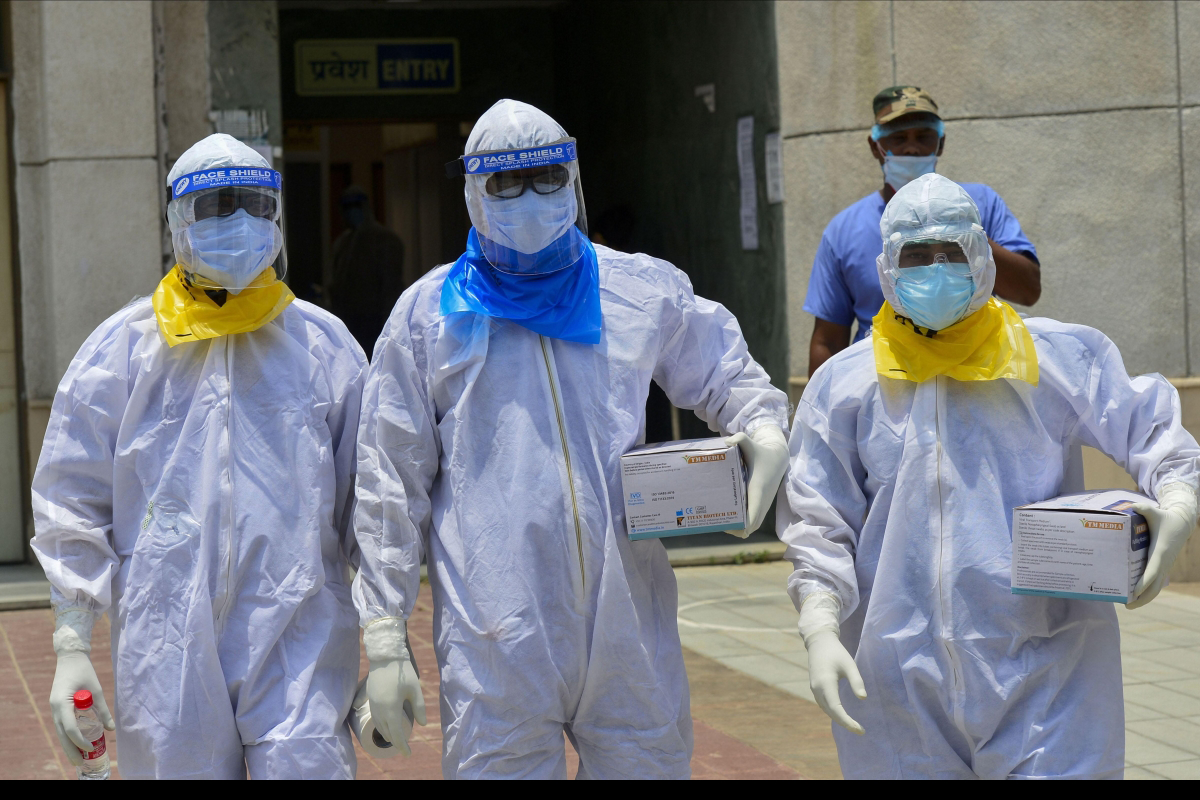Coverall: (362, 104, 773, 796), (790, 187, 1200, 800), (37, 134, 375, 800)
Gloves: (792, 587, 871, 735), (712, 407, 793, 546), (354, 618, 433, 756), (1123, 474, 1200, 613), (46, 649, 114, 763)
with_mask: (474, 171, 589, 260), (184, 195, 287, 289), (887, 251, 984, 330), (878, 127, 940, 197)
